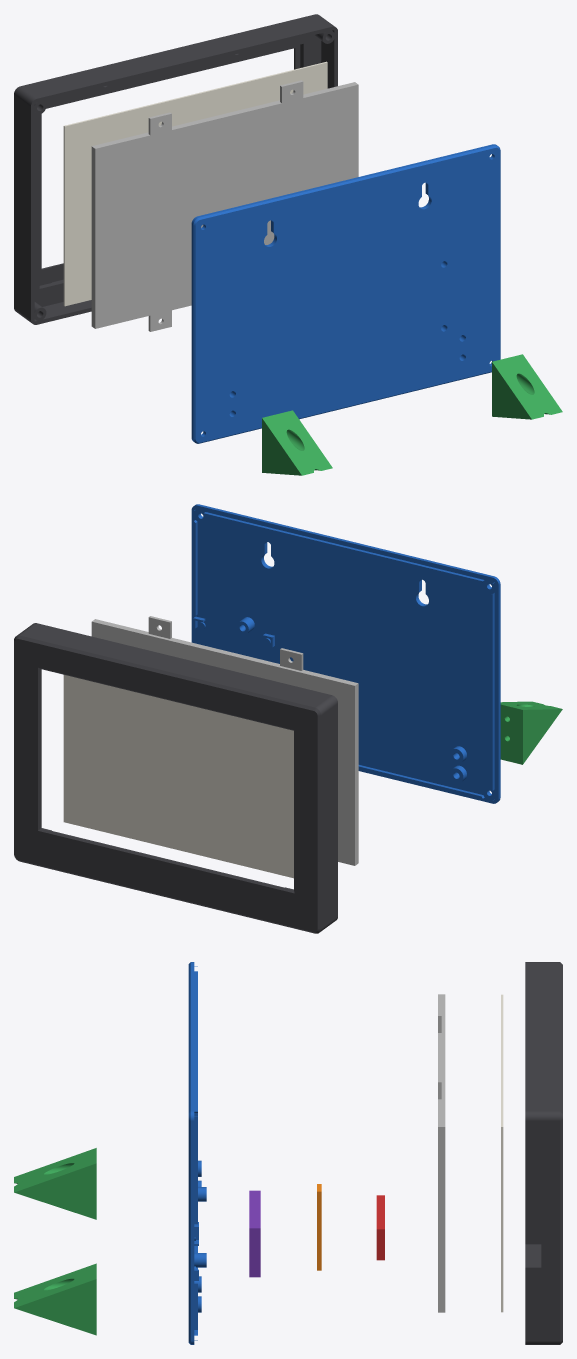
The model's file is assembly_exploded.obj.
3 views of the same model, one above another, from view 1: azimuth 30°, elevation 25°; view 2: azimuth 150°, elevation 25°; view 3: azimuth 270°, elevation 25° (orthographic). The views are drawn at different scales.
Parts seen in each view (by area): view 1: back_cover, backer, frame, ref_panel, foot_1, foot_2; view 2: back_cover, frame, ref_panel, backer, foot_1; view 3: frame, back_cover, foot_2, foot_1, backer, ref_esp32, ref_panel, ref_adapter.
Part boxes in pixels (x1,y1,x2,y2): back_cover: (191,144,500,443); backer: (91,80,358,331); frame: (14,14,337,324); ref_panel: (63,61,327,306); foot_1: (262,410,332,475); foot_2: (492,354,562,419); back_cover: (191,504,500,803); frame: (14,623,337,933); ref_panel: (63,675,293,878); backer: (91,616,358,865); foot_1: (500,701,562,764); frame: (525,962,562,1344); back_cover: (188,962,206,1344); foot_2: (14,1263,96,1335); foot_1: (14,1148,96,1219); backer: (438,994,445,1312); ref_esp32: (249,1190,260,1277); ref_panel: (501,994,503,1312); ref_adapter: (376,1195,384,1260).
Size of the model in its own units: 199 by 140 by 298.
